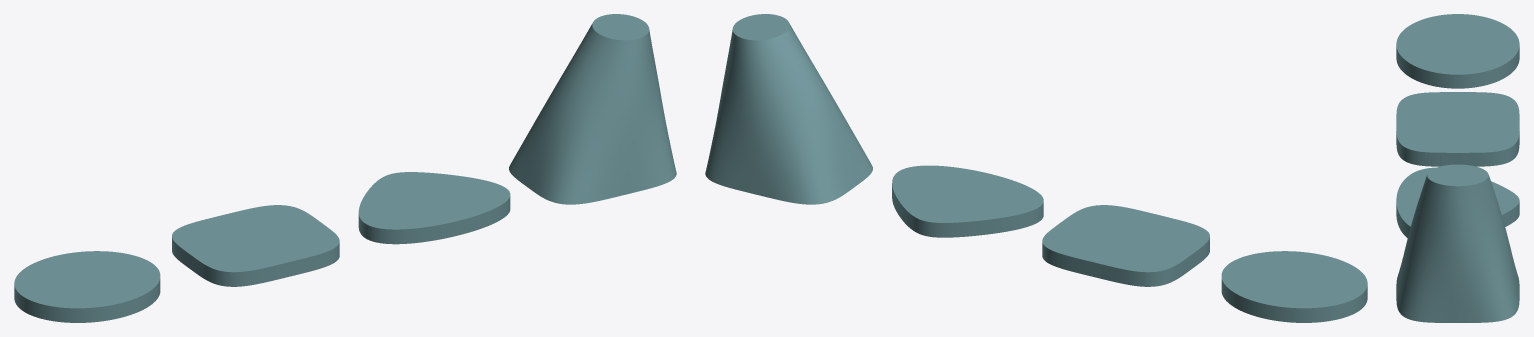
File: profiles_sections.glb
The picture shows the model from 3 angles, left to right: view 1: azimuth 30°, elevation 25°; view 2: azimuth 150°, elevation 25°; view 3: azimuth 270°, elevation 25°; orthographic projection. The views are drawn at different scales.
Parts seen in each view (by area): view 1: egg; view 2: egg; view 3: egg.
Part boxes in pixels (x1=…): egg: x1=14, y1=14, x2=676, y2=322; egg: x1=705, y1=14, x2=1367, y2=322; egg: x1=1396, y1=14, x2=1519, y2=322.
Bounding box in the file's own units: 0.136 × 0.028 × 0.024.
